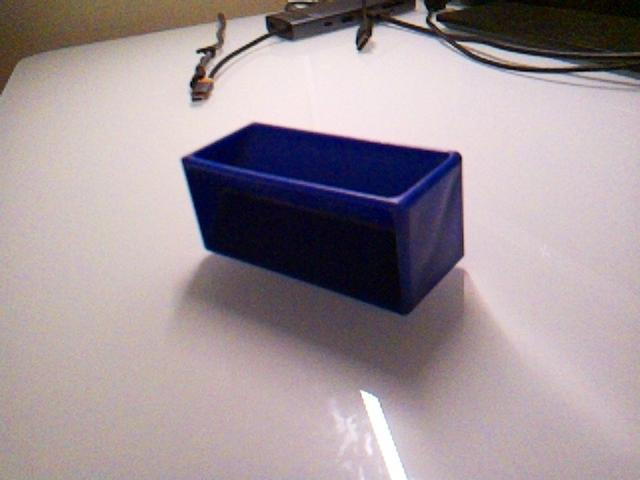blue: (179, 119, 467, 317)
